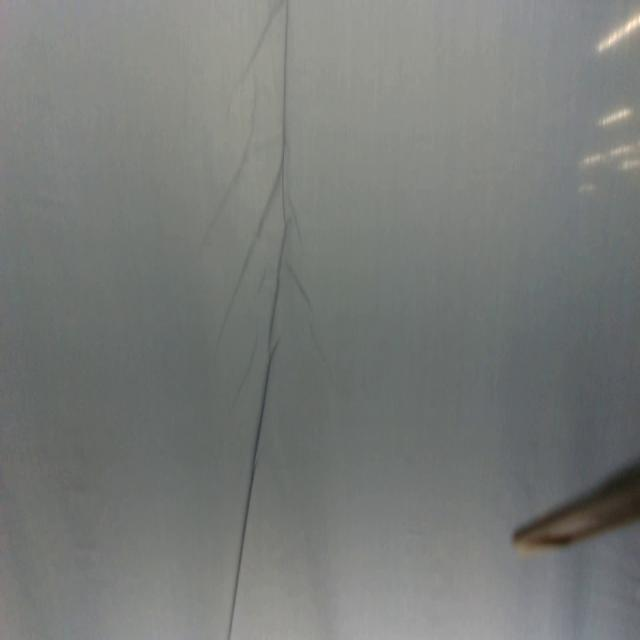crease: (219, 1, 292, 640), (216, 158, 279, 344), (202, 88, 260, 251), (233, 0, 278, 92), (228, 329, 260, 418), (284, 259, 316, 315)
